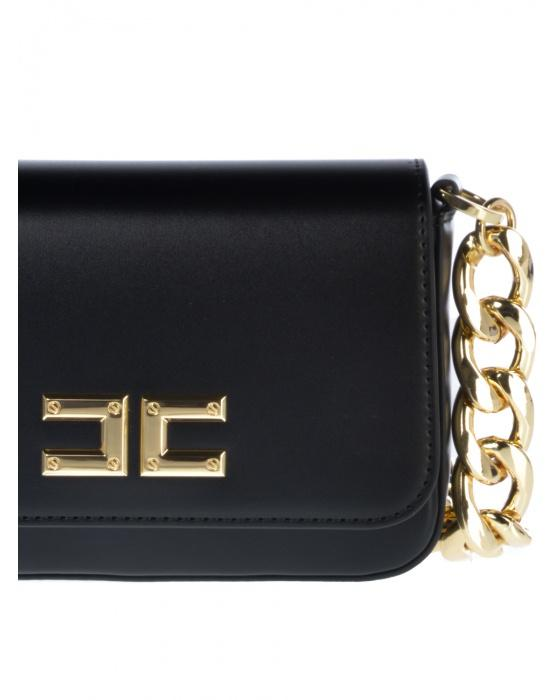ELISABETTA-FRANCHI: (31, 375, 242, 495)
